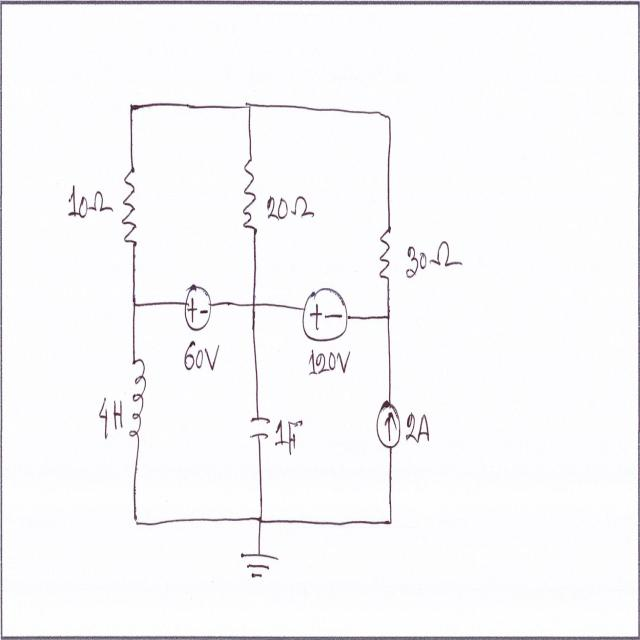capacitor: (246, 410, 272, 448)
current_source: (375, 396, 402, 453)
ground: (239, 548, 282, 587)
inductor: (128, 352, 148, 449)
resistor: (121, 168, 140, 254), (240, 156, 260, 234), (377, 221, 396, 286)
voltage_source: (298, 288, 349, 346), (182, 281, 212, 331)
